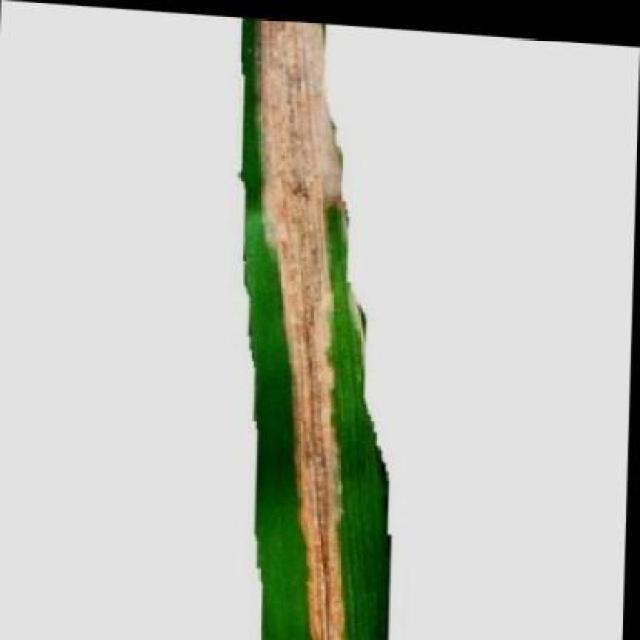Brown_Spot: (246, 17, 376, 640)
